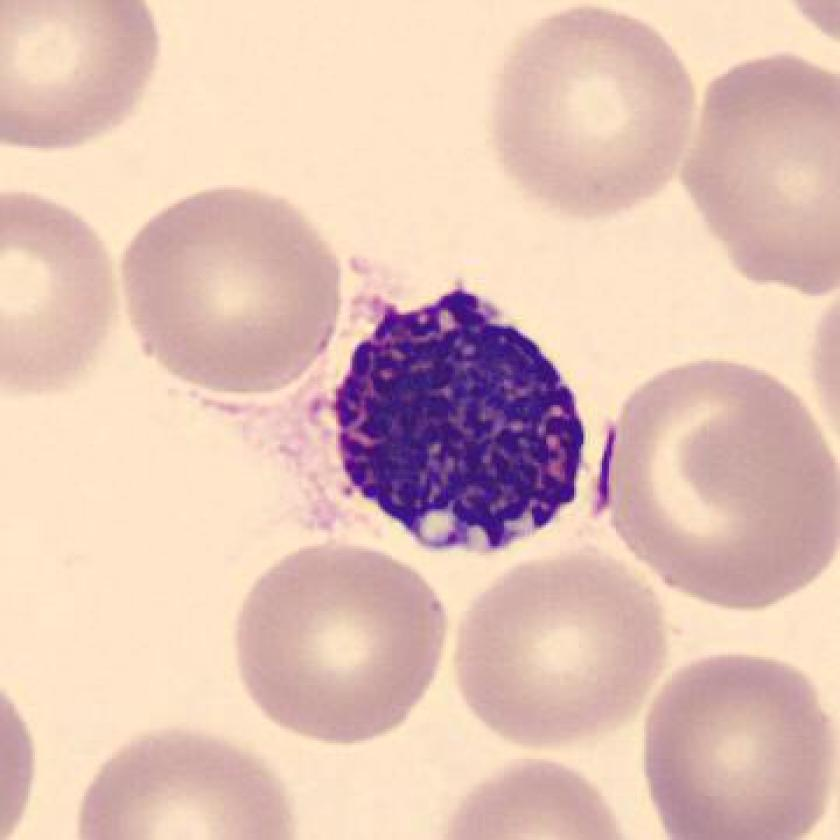basophil: (325, 277, 598, 559)
